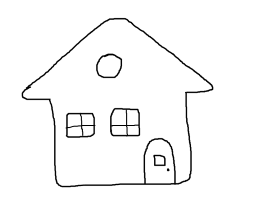closed_window: (106, 105, 145, 138), (64, 107, 96, 142)
door: (141, 136, 180, 187)
open_window: (88, 49, 128, 84)
single_line_roof: (17, 16, 226, 101)
wall: (46, 85, 201, 190)
